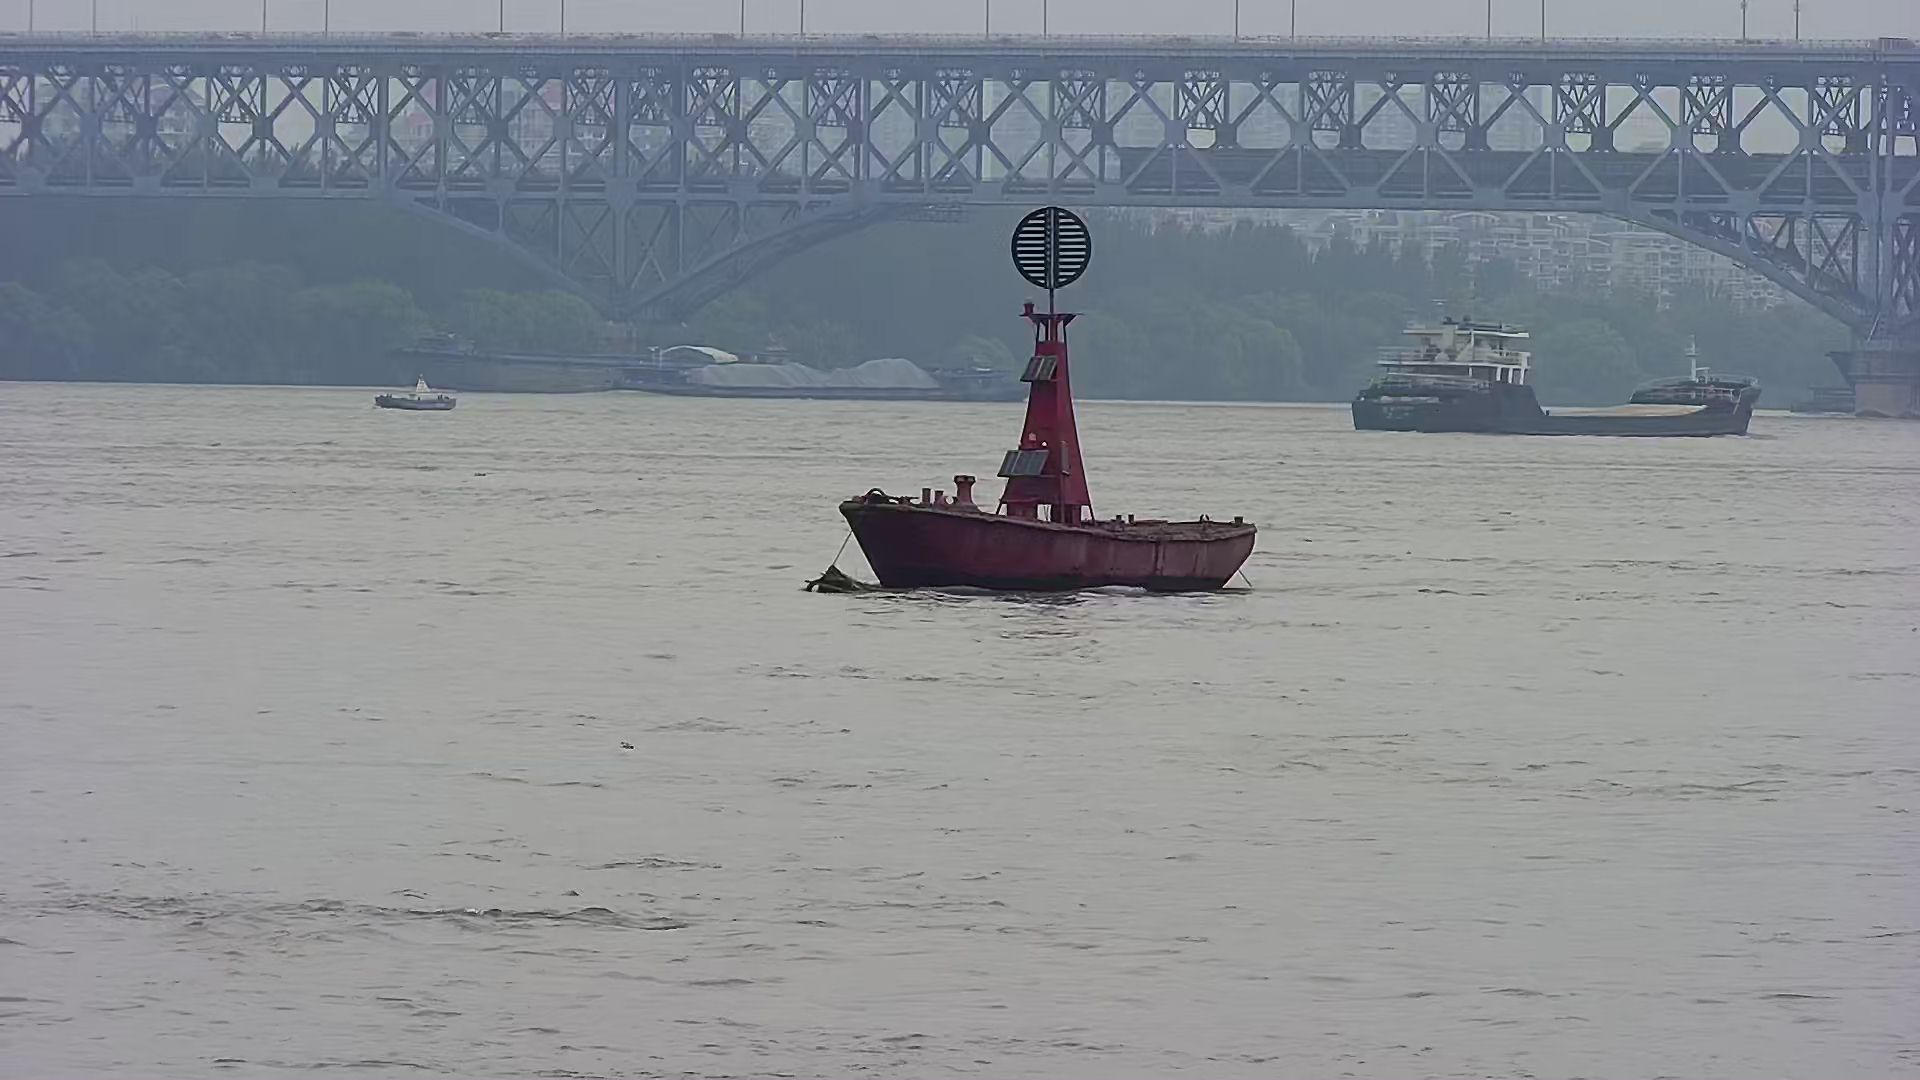boat: (806, 189, 1271, 615), (361, 372, 468, 419)
bridge: (7, 20, 1920, 434)
ship: (1323, 305, 1772, 452), (601, 348, 1040, 415)
